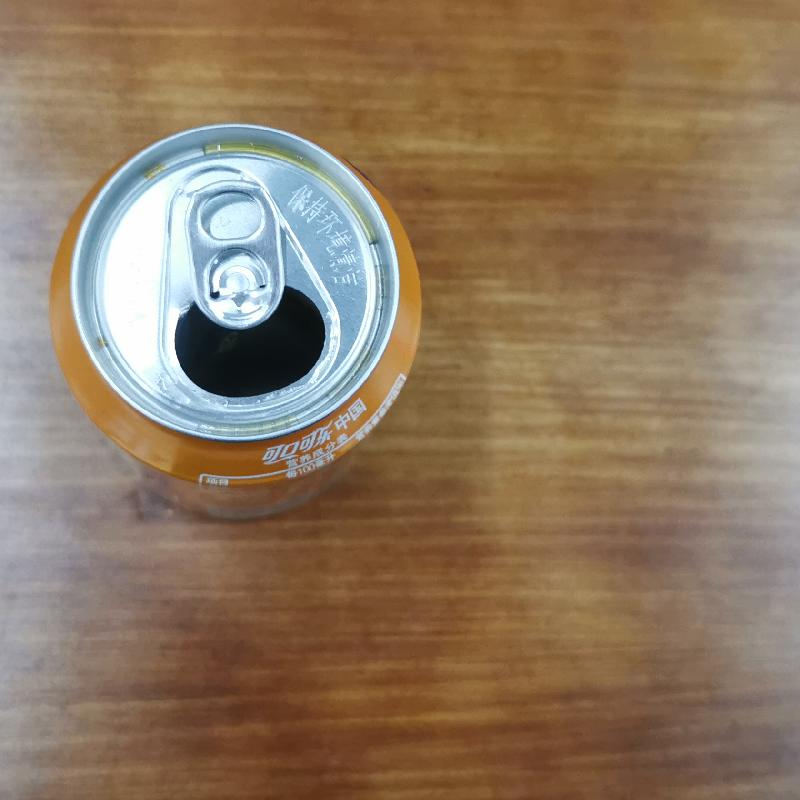cans: (40, 117, 426, 531)
